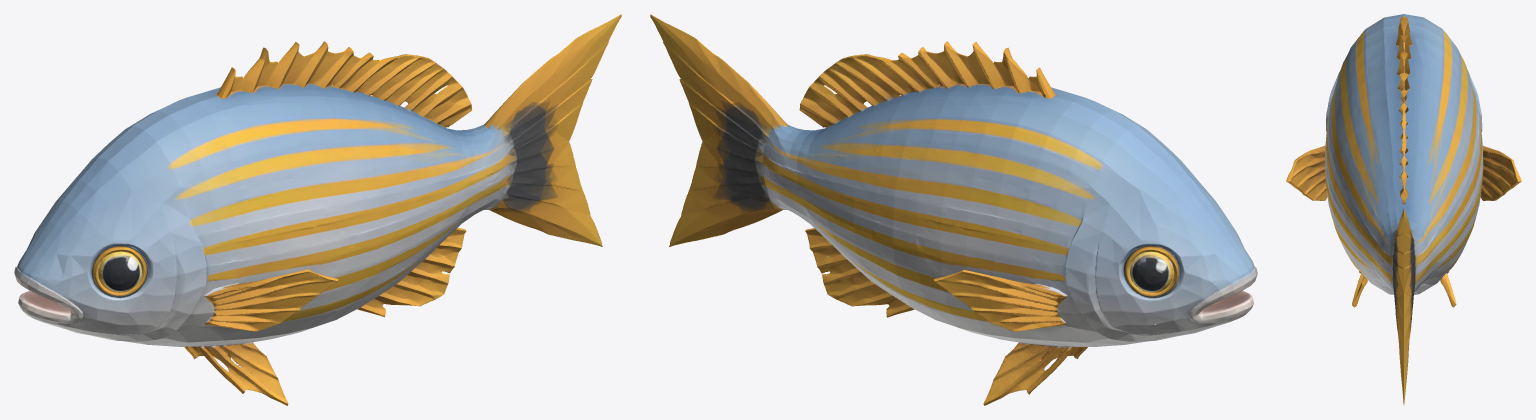
The model's file is Burro -atino.glb.
3 views of the same model, side by side, from view 1: azimuth 30°, elevation 25°; view 2: azimuth 150°, elevation 25°; view 3: azimuth 270°, elevation 25° (orthographic). The views are drawn at different scales.
Visible parts, largest first — view 1: tripo_node_bc32ca3b-ade3-4e5a-b7bc-1873bf51816d; view 2: tripo_node_bc32ca3b-ade3-4e5a-b7bc-1873bf51816d; view 3: tripo_node_bc32ca3b-ade3-4e5a-b7bc-1873bf51816d.
Boxes of the visible parts, bbox=[...] form: tripo_node_bc32ca3b-ade3-4e5a-b7bc-1873bf51816d: bbox=[14, 14, 621, 405]; tripo_node_bc32ca3b-ade3-4e5a-b7bc-1873bf51816d: bbox=[650, 14, 1257, 405]; tripo_node_bc32ca3b-ade3-4e5a-b7bc-1873bf51816d: bbox=[1286, 14, 1521, 405].
Size of the model in its own units: 0.9999 by 0.5317 by 0.3911.
Materials: 1 (1 with a texture image).
